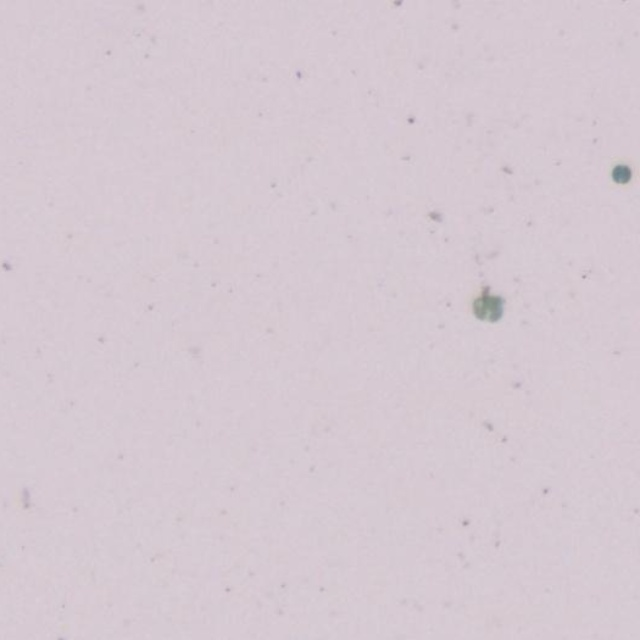non_viable: (472, 288, 503, 322), (611, 165, 631, 184)
